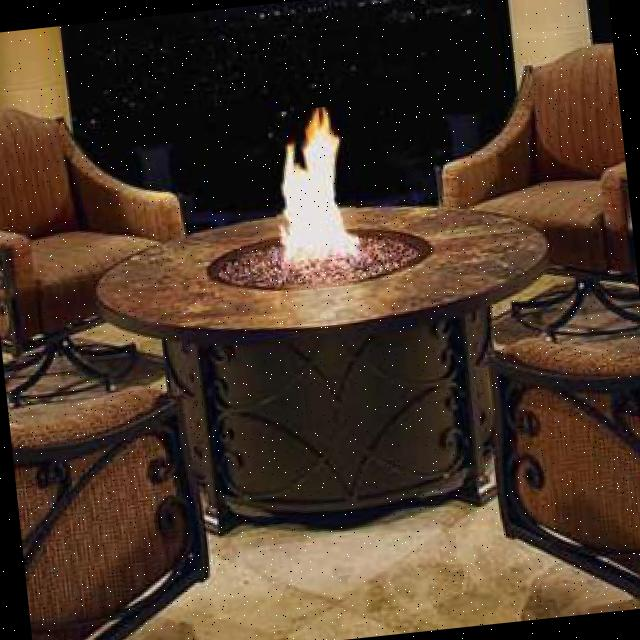fire: (265, 104, 362, 276)
